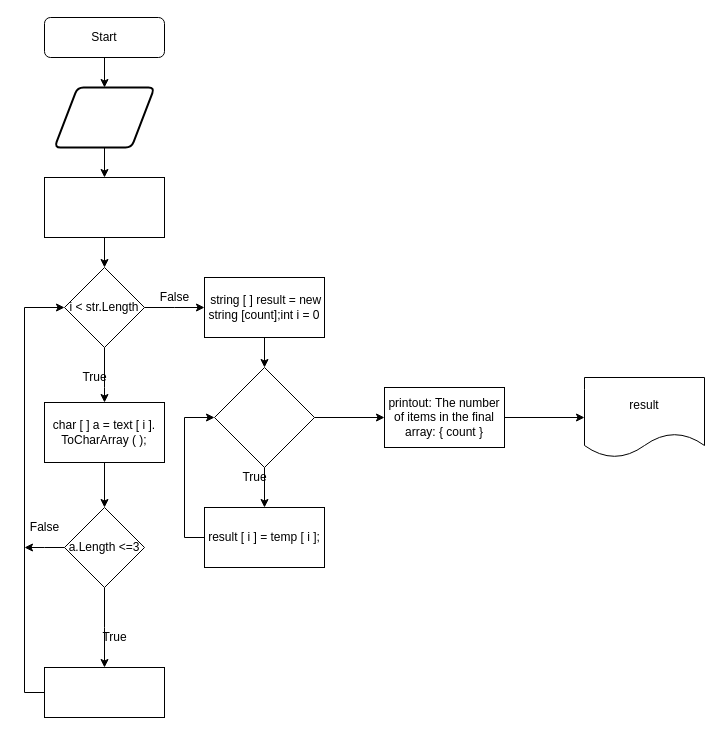
Image size: 722x735. Some labels were removed from this diagram. The box of each missing label's shape, as (x1, y1, x2, y2) in pixels:
i < result.Length: (214, 366, 314, 468)
int count = 0; string [] temp = new string [str.Length];it i = 0: (44, 176, 164, 238)
string [ ] str: (53, 86, 155, 148)
temp [count] = text [ i ];count++;: (44, 666, 164, 718)
